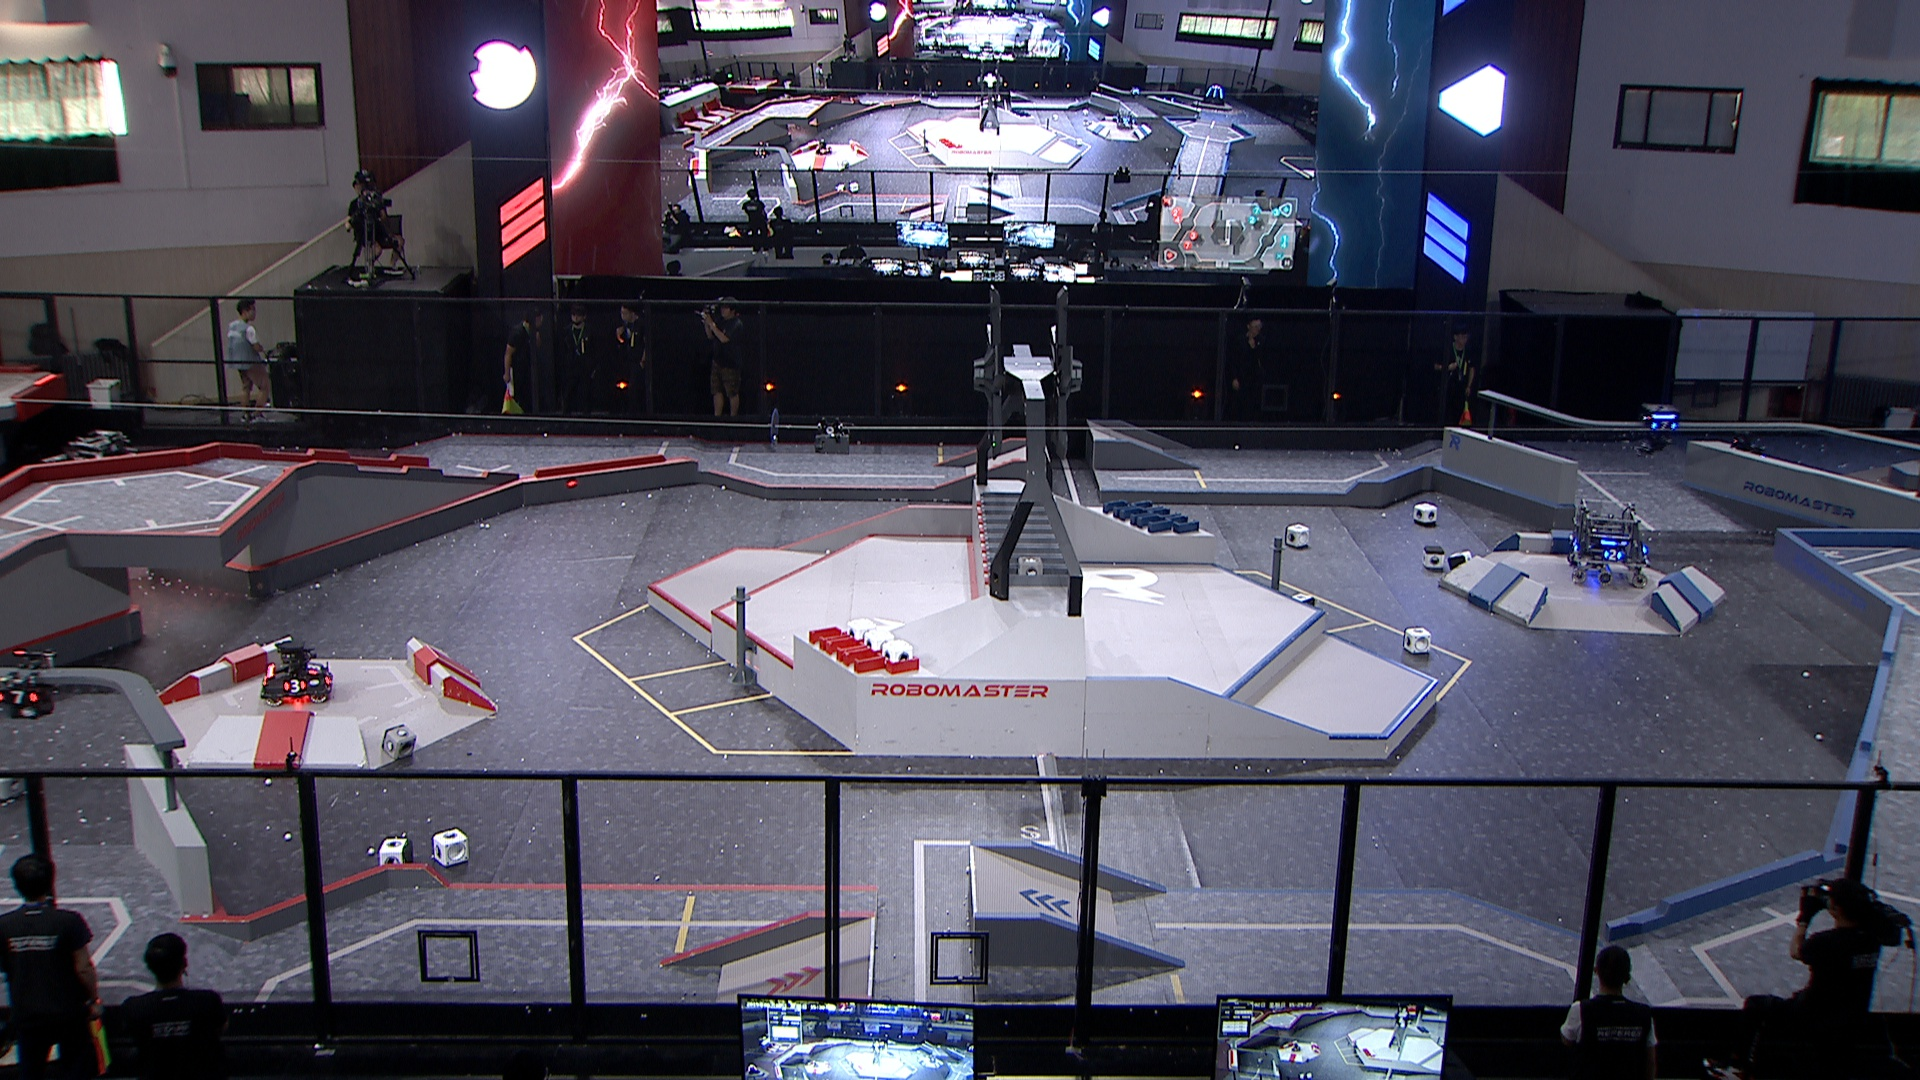armor: (282, 678, 309, 694), (1648, 419, 1679, 433), (1600, 549, 1623, 564), (305, 661, 320, 676)
car: (51, 429, 145, 518), (1567, 495, 1654, 589), (256, 638, 338, 708)
watcher: (1634, 400, 1687, 455)
